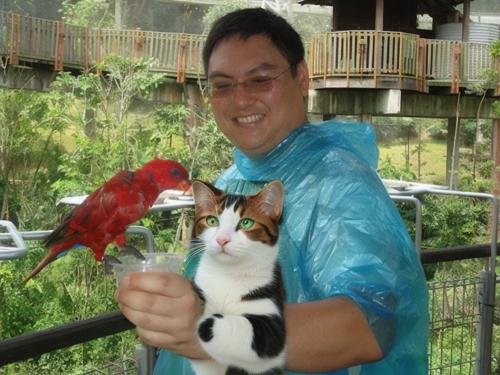bird: (23, 160, 190, 285)
cat: (188, 180, 288, 375)
person: (114, 8, 431, 375)
person/hand: (114, 271, 231, 357)
person/head: (203, 7, 310, 148)
